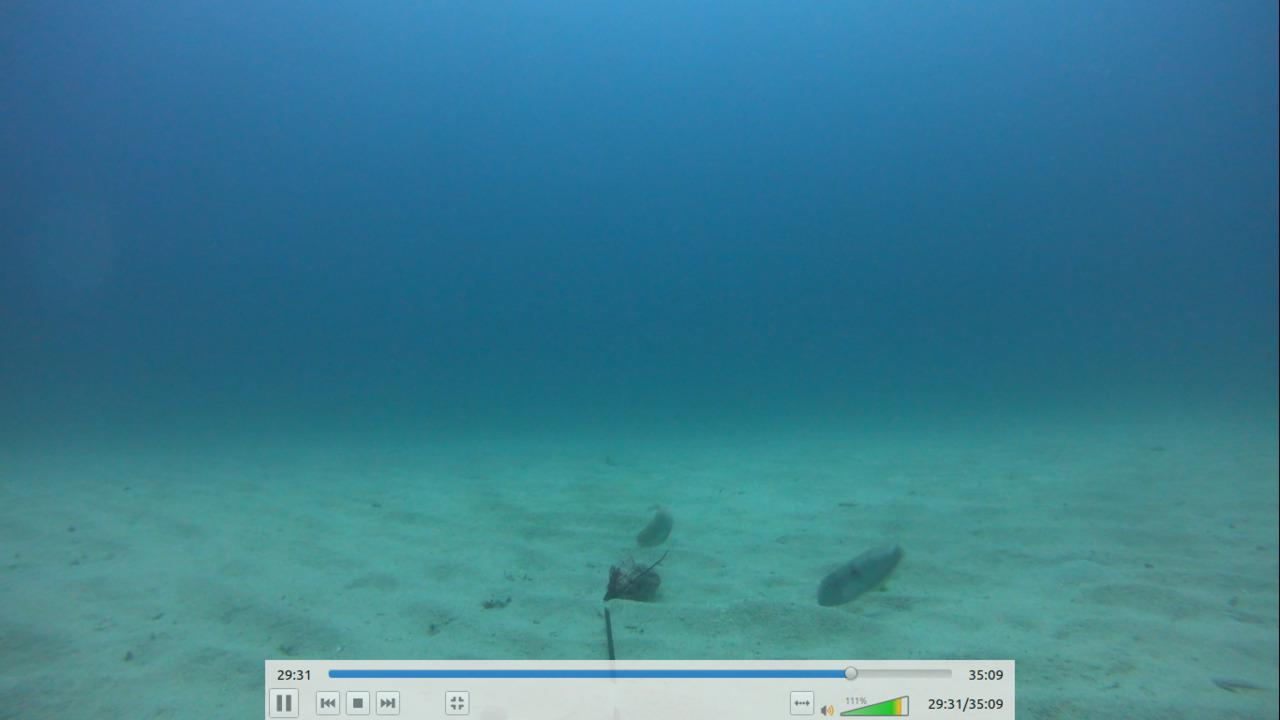raor: (812, 538, 907, 610), (626, 497, 677, 550)
